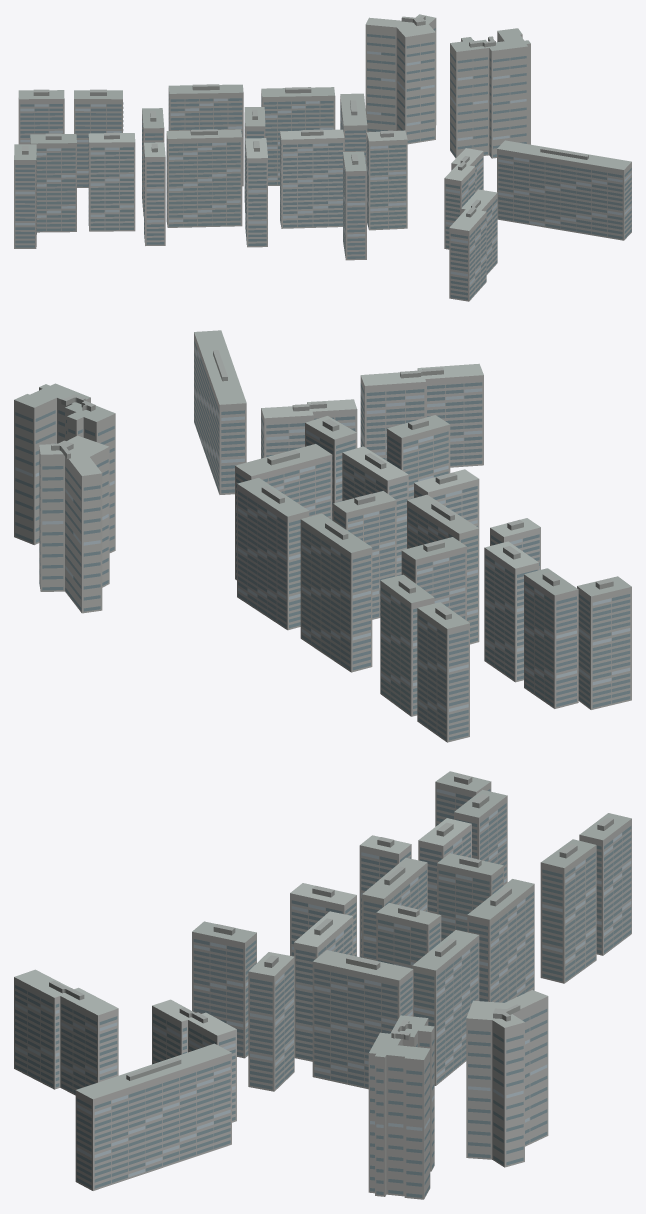
The model's file is apt-a15609306.glb.
The picture shows the model from 3 angles, top to bottom: view 1: azimuth 30°, elevation 25°; view 2: azimuth 150°, elevation 25°; view 3: azimuth 270°, elevation 25°; orthographic projection. The views are drawn at different scales.
Visible parts, largest first — view 1: apt-a15609306; view 2: apt-a15609306; view 3: apt-a15609306.
Part boxes in pixels (x1=…): apt-a15609306: x1=14, y1=14, x2=631, y2=301; apt-a15609306: x1=14, y1=330, x2=631, y2=742; apt-a15609306: x1=14, y1=771, x2=631, y2=1199.
Size of the model in its own units: 335 by 72 by 279.
